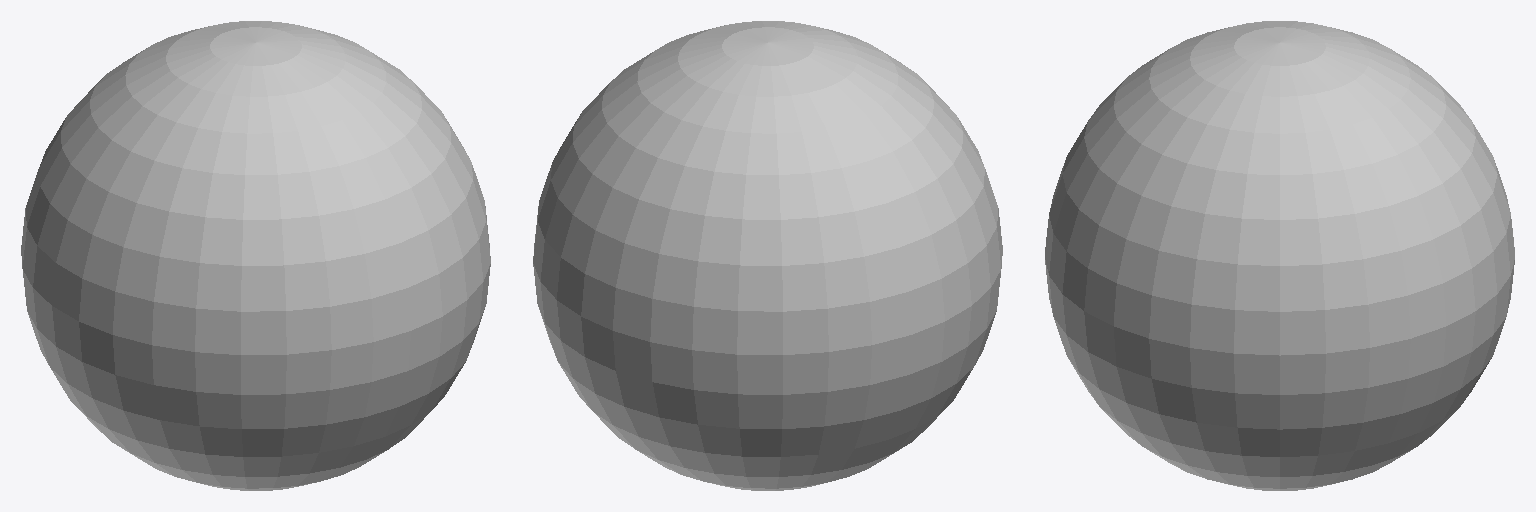
Rendered from cornell3_sphere2_02.obj.
3 renders of one model, left to right at view 1: azimuth 30°, elevation 25°; view 2: azimuth 150°, elevation 25°; view 3: azimuth 270°, elevation 25°, orthographic.
Parts seen in each view (by area): view 1: Sphere; view 2: Sphere; view 3: Sphere.
Boxes of the visible parts, box(x1,y1,x2,y2) form: Sphere: box(21, 21, 490, 490); Sphere: box(533, 21, 1002, 490); Sphere: box(1045, 21, 1514, 490).
Bounding box in the file's own units: 0.398 × 0.398 × 0.398.